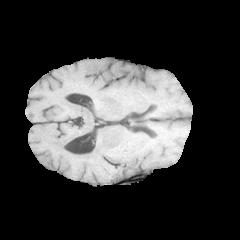glioma: (94, 154, 157, 183)
